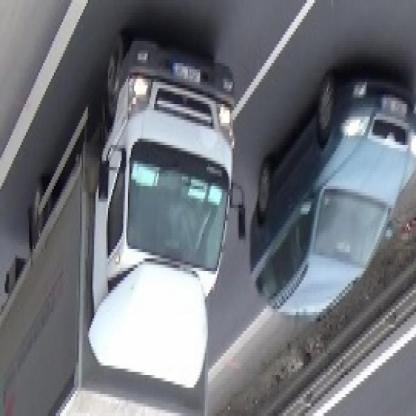truck: (3, 35, 250, 416)
